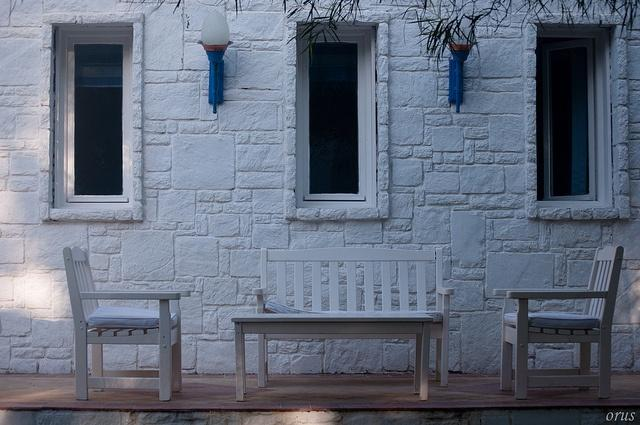Kursi: (495, 243, 624, 400), (60, 245, 182, 402)
Meja: (231, 314, 433, 399)
